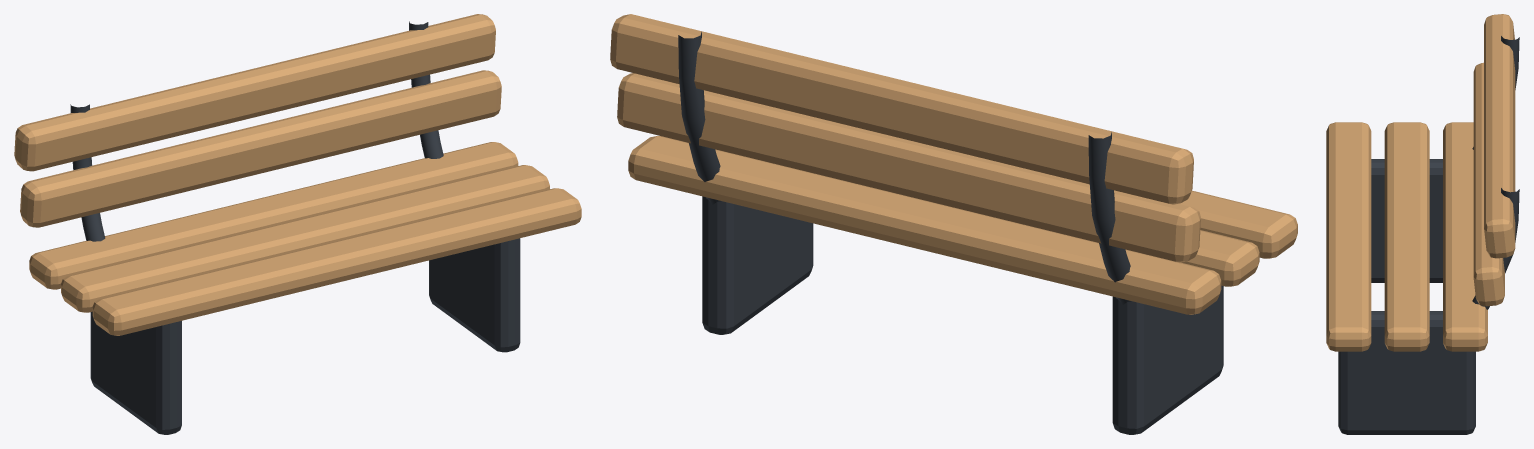
Rendered from courtyard-bench.glb.
3 renders of one model, left to right at view 1: azimuth 30°, elevation 25°; view 2: azimuth 150°, elevation 25°; view 3: azimuth 270°, elevation 25°, orthographic. The views are drawn at different scales.
Visible parts, largest first — view 1: bench · Natural oak, bench · Graphite metal; view 2: bench · Natural oak, bench · Graphite metal; view 3: bench · Natural oak, bench · Graphite metal.
Part boxes in pixels (bbox=[...]): bench · Natural oak: bbox=[14, 14, 581, 335]; bench · Graphite metal: bbox=[70, 21, 520, 434]; bench · Natural oak: bbox=[610, 14, 1297, 314]; bench · Graphite metal: bbox=[678, 31, 1223, 434]; bench · Natural oak: bbox=[1326, 14, 1515, 351]; bench · Graphite metal: bbox=[1338, 36, 1519, 434].
Size of the model in its own units: 1.9 by 1.02 by 0.7299.
